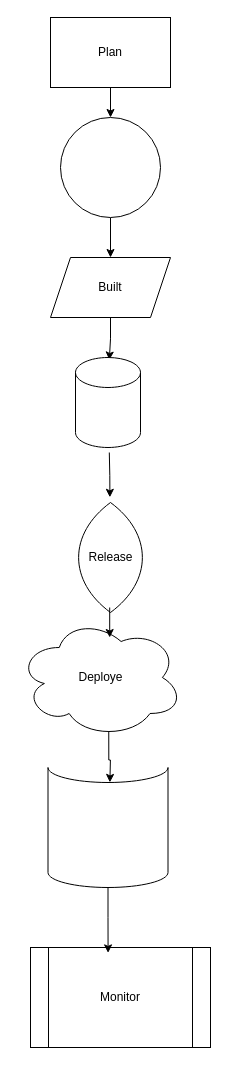
Image size: 228x1065. Some labels were removed from this diagram. Here are the shapes that lost their labels. From the top down, the box of each, then its label:
(60, 116, 160, 218): Develop
(74, 356, 140, 448): Test
(47, 766, 168, 888): Operater
